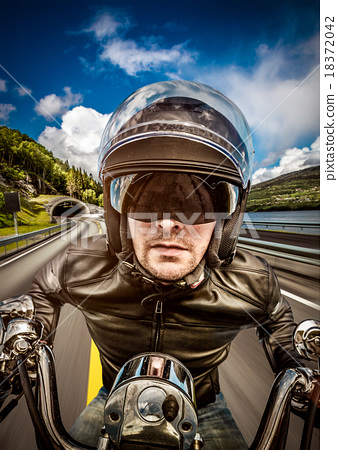helmet: (81, 90, 263, 276)
